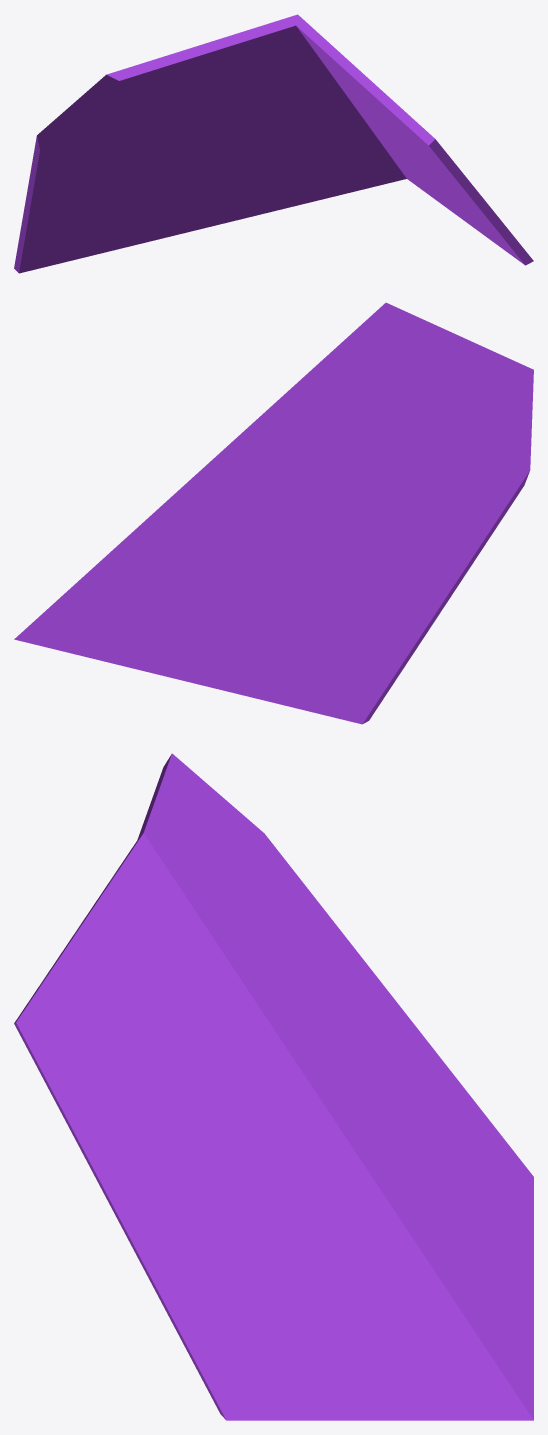
File: Window_26_13_chunks.fbx
The picture shows the model from 3 angles, top to bottom: view 1: azimuth 30°, elevation 25°; view 2: azimuth 150°, elevation 25°; view 3: azimuth 270°, elevation 25°; orthographic projection. The views are drawn at different scales.
Parts seen in each view (by area): view 1: Window_26_13_4, Window_26_13_12, Window_26_13_7, Window_26_13_10, Window_26_13_13, Window_26_13_8, Window_26_13_6, Window_26_13_21, Window_26_13_9, Window_26_13_20, Window_26_13_14, Window_26_13_19 (+6 smaller); view 2: Window_26_13_4, Window_26_13_10, Window_26_13_7, Window_26_13_12, Window_26_13_9, Window_26_13_6, Window_26_13_8, Window_26_13_21, Window_26_13_14, Window_26_13_20, Window_26_13_13, Window_26_13_19 (+4 smaller); view 3: Window_26_13_1, Window_26_13_2, Window_26_13_11, Window_26_13_0, Window_26_13_8, Window_26_13_13, Window_26_13_9, Window_26_13_4, Window_26_13_10, Window_26_13_7, Window_26_13_12, Window_26_13_6 (+9 smaller).
Boxes of the visible parts, box(x1,y1,x2,y2) form: Window_26_13_4: box(14, 172, 169, 273); Window_26_13_12: box(69, 46, 235, 120); Window_26_13_7: box(86, 115, 211, 181); Window_26_13_10: box(158, 54, 321, 125); Window_26_13_13: box(197, 14, 392, 105); Window_26_13_8: box(311, 129, 431, 201); Window_26_13_6: box(23, 107, 87, 220); Window_26_13_21: box(185, 99, 297, 168); Window_26_13_9: box(286, 81, 385, 146); Window_26_13_20: box(96, 164, 209, 254); Window_26_13_14: box(136, 185, 296, 244); Window_26_13_19: box(152, 137, 300, 234); Window_26_13_4: box(304, 557, 435, 724); Window_26_13_10: box(259, 365, 430, 479); Window_26_13_7: box(336, 431, 510, 560); Window_26_13_12: box(410, 338, 533, 455); Window_26_13_9: box(131, 421, 297, 545); Window_26_13_6: box(414, 424, 531, 619); Window_26_13_8: box(14, 533, 167, 656); Window_26_13_21: box(227, 446, 352, 558); Window_26_13_14: box(123, 612, 275, 703); Window_26_13_20: box(263, 558, 336, 709); Window_26_13_13: box(317, 302, 463, 372); Window_26_13_19: box(211, 524, 285, 670); Window_26_13_1: box(176, 1242, 458, 1420); Window_26_13_2: box(26, 1046, 240, 1330); Window_26_13_11: box(14, 952, 281, 1057); Window_26_13_0: box(136, 1051, 350, 1222); Window_26_13_8: box(363, 1212, 533, 1420); Window_26_13_13: box(55, 791, 215, 963); Window_26_13_9: box(269, 1022, 413, 1236); Window_26_13_4: box(373, 1005, 533, 1216); Window_26_13_10: box(202, 866, 312, 1037); Window_26_13_7: box(233, 820, 387, 1071); Window_26_13_12: box(150, 753, 273, 910); Window_26_13_6: box(222, 797, 418, 1030).
Size of the model in its own units: 1227 by 819 by 913.
